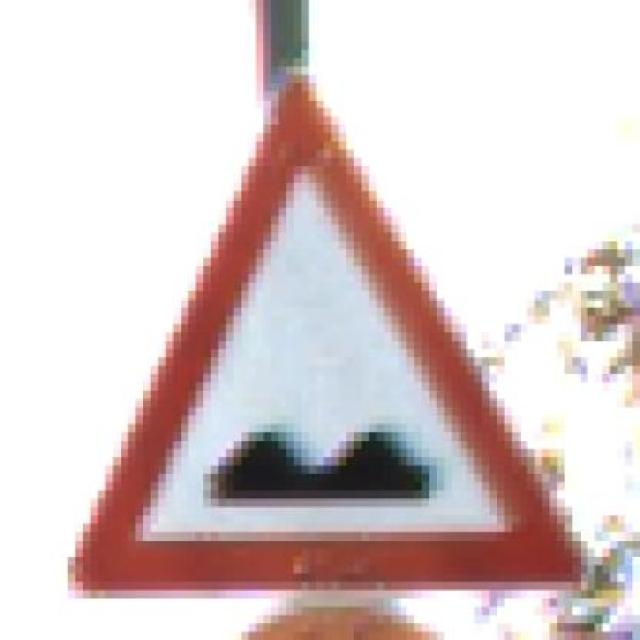Uneven Road: (60, 59, 595, 598)
